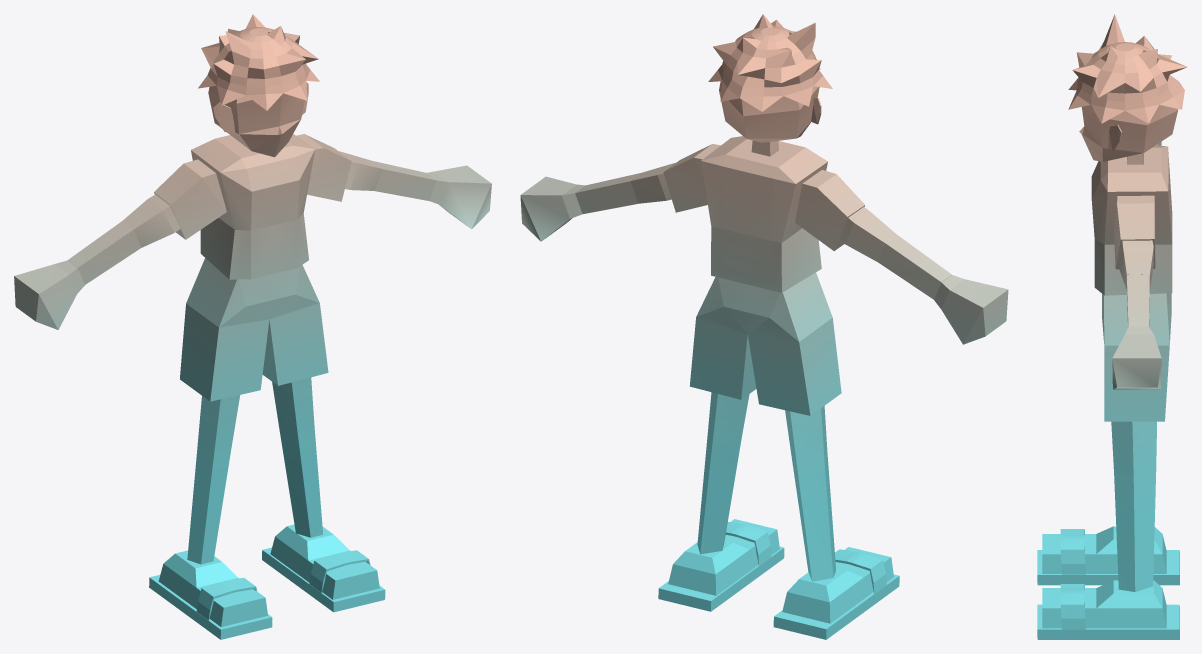
File: Zombie bg3.glb
The picture shows the model from 3 angles, left to right: view 1: azimuth 30°, elevation 25°; view 2: azimuth 150°, elevation 25°; view 3: azimuth 270°, elevation 25°; orthographic projection. The views are drawn at different scales.
Visible parts, largest first — view 1: Shirt.001, Hair, Right_Legging, Left_Legging, Head, Right_Foot, Left_Foot, Lower_Right_Leg, Shirt_Right_Arm.002, Lower_Left_Leg, Right_Hand, Lower_Right_Pant (+12 smaller); view 2: Shirt.001, Hair, Right_Legging, Left_Legging, Right_Foot, Left_Foot, Lower_Right_Leg, Right_Hand, Lower_Left_Leg, Shirt_Right_Arm.002, Head, Lower_Right_Pant (+12 smaller); view 3: Hair, Shirt.001, Lower_Left_Leg, Left_Foot, Head, Left__Flipflop.002, Left_Legging, Right__Flipflop.001, Left_Hand, Right_Foot, Upper_Left_Leg, Lower_Leftt_Pant (+3 smaller).
Part boxes in pixels (x1,y1,x2,y2): Shirt.001: (191, 134, 315, 279); Hair: (198, 14, 319, 110); Right_Legging: (180, 303, 269, 401); Left_Legging: (262, 303, 328, 385); Head: (208, 81, 308, 157); Right_Foot: (158, 550, 267, 626); Left_Foot: (270, 524, 379, 599); Lower_Right_Leg: (187, 446, 231, 564); Shirt_Right_Arm.002: (154, 159, 226, 239); Lower_Left_Leg: (279, 426, 322, 537); Right_Hand: (14, 260, 84, 329); Lower_Right_Pant: (186, 258, 268, 327); Shirt.001: (701, 136, 827, 292); Hair: (708, 14, 832, 111); Right_Legging: (747, 318, 841, 415); Left_Legging: (689, 317, 756, 399); Right_Foot: (782, 547, 893, 623); Left_Foot: (668, 519, 779, 595); Lower_Right_Leg: (791, 452, 836, 581); Right_Hand: (934, 275, 1008, 344); Lower_Left_Leg: (697, 433, 740, 554); Shirt_Right_Arm.002: (795, 170, 864, 250); Head: (719, 81, 821, 142); Lower_Right_Pant: (748, 272, 832, 341); Hair: (1068, 14, 1187, 123); Shirt.001: (1091, 146, 1172, 295); Lower_Left_Leg: (1114, 469, 1156, 591); Left_Foot: (1042, 580, 1166, 628); Head: (1079, 105, 1178, 161); Left__Flipflop.002: (1037, 584, 1179, 639); Left_Legging: (1104, 345, 1169, 421); Right__Flipflop.001: (1037, 529, 1179, 585); Left_Hand: (1112, 326, 1161, 389); Right_Foot: (1042, 526, 1166, 573); Upper_Left_Leg: (1111, 421, 1156, 476); Lower_Leftt_Pant: (1102, 293, 1171, 345).
Bounding box in the file's own units: 1.56 × 1.88 × 0.4513.
Materials: 1 (1 with a texture image).
